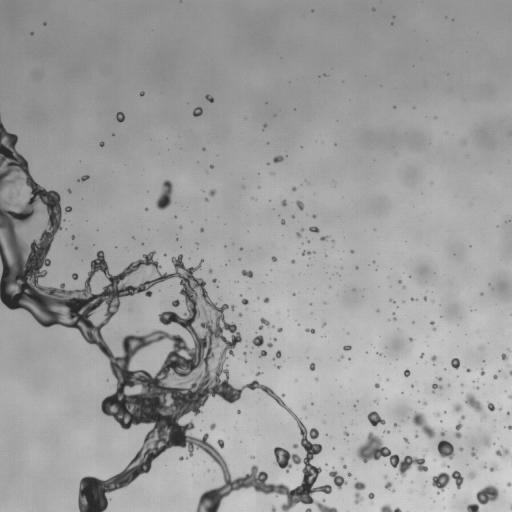droplet: (366, 411, 385, 429), (437, 440, 454, 459), (495, 445, 511, 464), (252, 335, 263, 347), (384, 481, 395, 492), (13, 142, 24, 153), (39, 179, 50, 190), (2, 183, 13, 194), (21, 186, 32, 197), (152, 186, 163, 197), (286, 192, 297, 203), (286, 220, 297, 231), (310, 238, 321, 249), (277, 254, 288, 265), (163, 262, 174, 273), (108, 264, 119, 275), (66, 279, 77, 290), (223, 311, 234, 322), (260, 327, 271, 338), (241, 332, 252, 343), (224, 355, 235, 366), (229, 377, 240, 388), (463, 383, 474, 394), (105, 384, 116, 395), (426, 392, 437, 403), (461, 404, 472, 415), (448, 412, 459, 423), (424, 415, 435, 426), (406, 422, 417, 433), (372, 424, 383, 435), (380, 436, 391, 447), (131, 439, 142, 450), (169, 444, 180, 455), (193, 447, 204, 458), (347, 447, 358, 458), (310, 455, 321, 466), (469, 459, 480, 470), (112, 463, 123, 474), (97, 470, 108, 481), (213, 476, 224, 487), (343, 480, 354, 491), (494, 480, 505, 491), (70, 481, 81, 492), (374, 486, 385, 497), (311, 490, 322, 501), (323, 495, 334, 506), (373, 496, 384, 507), (218, 497, 229, 508), (452, 402, 462, 413), (294, 501, 305, 511), (115, 112, 125, 122), (241, 269, 252, 278), (451, 358, 460, 369), (192, 107, 202, 116), (216, 438, 224, 449), (4, 124, 13, 133), (292, 191, 301, 200), (168, 192, 177, 201), (58, 198, 67, 207), (287, 201, 296, 210), (164, 204, 173, 213), (53, 230, 62, 239), (5, 254, 14, 263), (78, 271, 87, 280), (37, 277, 46, 286), (75, 279, 84, 288), (266, 347, 275, 356), (100, 355, 109, 364), (470, 368, 479, 377), (456, 395, 465, 404), (414, 404, 423, 413), (444, 433, 453, 442), (432, 434, 441, 443), (358, 436, 367, 445), (325, 476, 334, 485), (345, 477, 354, 486), (203, 482, 212, 491), (359, 488, 368, 497), (278, 493, 287, 502), (273, 155, 283, 163), (296, 200, 304, 210), (487, 401, 495, 411), (171, 299, 180, 307), (467, 471, 476, 479), (309, 226, 319, 233), (505, 399, 511, 410), (290, 505, 301, 511), (351, 505, 362, 511), (477, 505, 488, 511), (205, 94, 213, 102), (258, 350, 267, 357), (441, 461, 450, 468), (320, 235, 330, 241), (430, 355, 436, 365), (484, 436, 490, 446), (208, 189, 216, 196), (241, 298, 249, 305), (501, 353, 508, 361), (403, 369, 410, 377), (0, 229, 5, 240), (0, 300, 5, 311), (309, 362, 315, 371), (27, 165, 34, 172), (32, 175, 39, 182), (24, 185, 31, 192), (13, 206, 20, 213), (310, 219, 317, 226), (317, 229, 324, 236), (72, 238, 79, 245), (49, 242, 56, 249), (303, 243, 310, 250), (45, 251, 52, 258), (294, 254, 301, 261), (39, 264, 46, 271), (192, 270, 199, 277), (16, 307, 23, 314), (222, 308, 229, 315), (51, 323, 58, 330), (71, 327, 78, 334), (271, 329, 278, 336), (260, 342, 267, 349), (91, 343, 98, 350), (97, 350, 104, 357), (343, 350, 350, 357), (423, 353, 430, 360), (274, 357, 281, 364), (498, 359, 505, 366), (105, 367, 112, 374), (484, 371, 491, 378), (257, 377, 264, 384), (274, 389, 281, 396), (95, 399, 102, 406), (480, 401, 487, 408), (446, 404, 453, 411), (107, 415, 114, 422), (406, 418, 413, 425), (147, 421, 154, 428), (384, 421, 391, 428), (129, 423, 136, 430), (415, 425, 422, 432), (433, 427, 440, 434), (418, 431, 425, 438), (407, 434, 414, 441), (442, 434, 449, 441), (463, 447, 470, 454), (159, 451, 166, 458), (442, 455, 449, 462), (355, 456, 362, 463), (367, 457, 374, 464), (150, 458, 157, 465), (309, 458, 316, 465), (211, 461, 218, 468), (410, 462, 417, 469), (445, 468, 452, 475), (337, 469, 344, 476), (87, 470, 94, 477), (137, 472, 144, 479), (357, 475, 364, 482), (448, 477, 455, 484), (330, 483, 337, 490), (477, 483, 484, 490), (247, 485, 254, 492), (230, 489, 237, 496), (256, 490, 263, 497), (496, 490, 503, 497), (104, 491, 111, 498), (268, 491, 275, 498), (310, 491, 317, 498), (193, 494, 200, 501), (471, 497, 478, 504), (486, 499, 493, 506), (308, 502, 315, 509), (477, 503, 484, 510), (343, 345, 351, 351), (440, 428, 446, 436), (506, 352, 511, 361), (216, 506, 225, 511), (310, 506, 319, 511), (281, 199, 287, 206), (65, 206, 71, 213), (262, 297, 269, 303), (433, 411, 440, 417), (393, 422, 400, 428), (480, 367, 485, 375), (72, 273, 78, 279), (343, 430, 349, 436), (403, 437, 409, 443), (321, 320, 326, 327), (464, 367, 471, 372), (373, 398, 378, 405), (210, 423, 215, 430), (99, 141, 104, 147), (271, 256, 277, 261), (267, 342, 273, 347), (419, 352, 424, 358), (374, 382, 379, 388), (422, 399, 427, 405), (292, 443, 298, 448), (271, 505, 276, 511), (231, 304, 235, 311), (274, 365, 281, 369), (435, 377, 442, 381), (73, 507, 80, 511), (103, 507, 110, 511), (275, 507, 282, 511), (374, 507, 381, 511), (461, 507, 468, 511), (140, 91, 145, 96), (292, 186, 297, 191), (277, 327, 282, 332), (408, 337, 413, 342), (478, 345, 483, 350), (204, 99, 209, 104), (272, 152, 277, 157), (23, 155, 28, 160), (268, 157, 273, 162), (275, 161, 280, 166), (82, 170, 87, 175), (76, 173, 81, 178), (294, 182, 299, 187), (45, 186, 50, 191), (54, 187, 59, 192), (213, 192, 218, 197), (206, 194, 211, 199), (298, 196, 303, 201), (276, 200, 281, 205), (293, 204, 298, 209), (302, 204, 307, 209), (60, 208, 65, 213), (276, 217, 281, 222), (59, 221, 64, 226), (299, 236, 304, 241), (326, 236, 331, 241), (144, 249, 149, 254), (92, 254, 97, 259), (103, 256, 108, 261), (151, 256, 156, 261), (124, 261, 129, 266), (191, 262, 196, 267), (184, 263, 189, 268), (370, 263, 375, 268), (86, 266, 91, 271), (244, 266, 249, 271), (159, 269, 164, 274), (338, 269, 343, 274), (83, 273, 88, 278), (210, 273, 215, 278), (243, 275, 248, 280), (55, 284, 60, 289), (203, 284, 208, 289), (63, 285, 68, 290), (243, 294, 248, 299), (259, 295, 264, 300), (268, 297, 273, 302), (247, 298, 252, 303), (216, 302, 221, 307), (263, 302, 268, 307), (240, 303, 245, 308), (394, 308, 399, 313), (264, 315, 269, 320), (226, 319, 231, 324), (268, 319, 273, 324), (256, 320, 261, 325), (36, 322, 41, 327), (274, 323, 279, 328), (61, 325, 66, 330), (272, 327, 277, 332), (256, 330, 261, 335), (239, 332, 244, 337), (79, 336, 84, 341), (268, 338, 273, 343), (262, 339, 267, 344), (410, 340, 415, 345), (235, 341, 240, 346), (224, 350, 229, 355), (504, 350, 509, 355), (451, 353, 456, 358), (342, 356, 347, 361), (427, 359, 432, 364), (458, 362, 463, 367), (479, 362, 484, 367), (314, 363, 319, 368), (221, 364, 226, 369), (450, 366, 455, 371), (305, 367, 310, 372), (504, 367, 509, 372), (253, 375, 258, 380), (457, 377, 462, 382), (247, 378, 252, 383), (227, 379, 232, 384), (436, 380, 441, 385), (378, 381, 383, 386), (473, 381, 478, 386), (265, 382, 270, 387), (459, 386, 464, 391), (434, 387, 439, 392), (506, 389, 511, 394), (281, 396, 286, 401), (305, 402, 310, 407), (493, 403, 498, 408), (291, 407, 296, 412), (484, 407, 489, 412), (493, 407, 498, 412), (366, 408, 371, 413), (457, 410, 462, 415), (409, 413, 414, 418), (440, 413, 445, 418), (379, 414, 384, 419), (460, 419, 465, 424), (452, 420, 457, 425), (366, 421, 371, 426), (376, 421, 381, 426), (115, 422, 120, 427), (315, 425, 320, 430), (305, 426, 310, 431), (120, 427, 125, 432), (345, 427, 350, 432), (451, 427, 456, 432), (458, 427, 463, 432), (317, 428, 322, 433), (320, 442, 325, 447), (493, 445, 498, 450), (452, 447, 457, 452), (434, 449, 439, 454), (390, 450, 395, 455), (202, 451, 207, 456), (475, 451, 480, 456), (130, 452, 135, 457), (416, 454, 421, 459), (494, 454, 499, 459), (384, 455, 389, 460), (398, 456, 403, 461), (422, 461, 427, 466), (486, 462, 491, 467), (484, 467, 489, 472), (420, 470, 425, 475), (433, 471, 438, 476), (460, 472, 465, 477), (343, 475, 348, 480), (386, 476, 391, 481), (428, 478, 433, 483), (381, 479, 386, 484), (312, 482, 317, 487), (460, 482, 465, 487), (340, 483, 345, 488), (442, 485, 447, 490), (433, 486, 438, 491), (352, 487, 357, 492), (350, 495, 355, 500), (304, 503, 309, 508), (354, 503, 359, 508), (335, 505, 340, 510), (390, 505, 395, 510), (398, 505, 403, 510), (281, 219, 285, 225), (429, 321, 435, 325), (0, 265, 3, 272), (209, 164, 214, 168), (67, 188, 71, 193), (208, 268, 212, 273), (212, 278, 217, 282), (493, 374, 497, 379), (302, 406, 307, 410), (497, 407, 502, 411), (459, 446, 463, 451), (250, 455, 255, 459), (347, 472, 351, 477), (506, 482, 511, 486), (507, 374, 511, 379), (473, 386, 479, 389), (422, 448, 428, 451), (371, 7, 375, 11), (204, 197, 208, 201), (144, 207, 148, 211), (312, 214, 316, 218), (350, 249, 354, 253), (291, 259, 295, 263), (238, 312, 242, 316), (393, 317, 397, 321), (432, 327, 436, 331), (314, 377, 318, 381), (237, 410, 241, 414), (342, 464, 346, 468), (323, 73, 328, 76), (200, 227, 203, 232), (423, 296, 426, 301), (243, 351, 246, 356), (508, 394, 511, 399), (384, 474, 387, 479), (508, 447, 511, 452), (266, 508, 271, 511), (505, 508, 510, 511), (310, 9, 314, 12), (43, 21, 46, 25), (433, 116, 437, 119), (202, 147, 205, 151), (266, 162, 270, 165), (291, 214, 294, 218), (179, 225, 182, 229), (71, 235, 74, 239), (195, 242, 199, 245), (74, 246, 78, 249), (239, 247, 243, 250), (323, 301, 327, 304), (507, 348, 511, 351), (244, 359, 247, 363), (294, 378, 297, 382), (447, 383, 450, 387), (332, 446, 335, 450), (432, 458, 436, 461), (452, 494, 455, 498), (390, 22, 393, 25), (30, 32, 33, 35), (393, 105, 396, 108), (242, 185, 245, 188), (174, 215, 177, 218), (132, 236, 135, 239), (331, 239, 334, 242), (307, 240, 310, 243), (163, 253, 166, 256), (324, 254, 327, 257), (238, 257, 241, 260), (372, 260, 375, 263), (355, 266, 358, 269), (398, 280, 401, 283), (215, 284, 218, 287), (328, 285, 331, 288), (402, 285, 405, 288), (352, 288, 355, 291), (292, 292, 295, 295), (480, 292, 483, 295), (218, 297, 221, 300), (402, 300, 405, 303), (309, 302, 312, 305), (376, 309, 379, 312), (387, 318, 390, 321), (297, 323, 300, 326), (306, 356, 309, 359), (348, 357, 351, 360), (386, 378, 389, 381), (460, 383, 463, 386), (410, 384, 413, 387), (417, 400, 420, 403), (310, 402, 313, 405), (353, 404, 356, 407), (443, 410, 446, 413), (410, 480, 413, 483), (392, 12, 395, 15), (390, 18, 393, 21), (41, 19, 44, 22), (387, 21, 390, 24), (40, 23, 43, 26), (45, 23, 48, 26), (29, 28, 32, 31), (27, 32, 30, 35), (32, 33, 35, 36), (325, 71, 328, 74), (320, 74, 323, 77), (136, 92, 139, 95), (203, 92, 206, 95), (140, 95, 143, 98), (213, 98, 216, 101), (392, 102, 395, 105), (264, 103, 267, 106), (194, 104, 197, 107), (197, 104, 200, 107), (201, 107, 204, 110), (295, 107, 298, 110), (118, 108, 121, 111), (189, 111, 192, 114), (113, 112, 116, 115), (123, 112, 126, 115), (195, 115, 198, 118), (113, 117, 116, 120), (123, 117, 126, 120), (119, 121, 122, 124), (260, 125, 263, 128), (263, 127, 266, 130), (108, 132, 111, 135), (114, 132, 117, 135), (111, 135, 114, 138), (300, 142, 303, 145), (103, 143, 106, 146), (202, 144, 205, 147), (97, 145, 100, 148), (199, 149, 202, 152), (204, 149, 207, 152), (287, 154, 290, 157), (282, 155, 285, 158), (210, 161, 213, 164), (206, 164, 209, 167), (266, 164, 269, 167), (208, 167, 211, 170), (86, 172, 89, 175), (73, 178, 76, 181), (85, 178, 88, 181), (79, 179, 82, 182), (291, 183, 294, 186), (288, 186, 291, 189), (70, 188, 73, 191), (295, 188, 298, 191), (291, 190, 294, 193), (267, 196, 270, 199), (201, 197, 204, 200), (280, 197, 283, 200), (251, 199, 254, 202), (203, 200, 206, 203), (285, 200, 288, 203), (283, 205, 286, 208), (141, 206, 144, 209), (71, 207, 74, 210), (143, 210, 146, 213), (313, 211, 316, 214), (176, 215, 179, 218), (309, 215, 312, 218), (315, 215, 318, 218), (171, 216, 174, 219), (505, 218, 508, 221), (284, 220, 287, 223), (281, 224, 284, 227), (316, 225, 319, 228), (197, 228, 200, 231), (203, 228, 206, 231), (200, 231, 203, 234), (312, 231, 315, 234), (293, 233, 296, 236), (74, 234, 77, 237), (134, 235, 137, 238), (68, 236, 71, 239), (172, 237, 175, 240), (130, 238, 133, 241), (177, 238, 180, 241), (71, 239, 74, 242), (140, 239, 143, 242), (196, 239, 199, 242), (322, 239, 325, 242), (303, 240, 306, 243), (223, 241, 226, 244), (468, 241, 471, 244), (114, 242, 117, 245), (71, 244, 74, 247), (194, 244, 197, 247), (220, 244, 223, 247), (238, 244, 241, 247), (471, 244, 474, 247), (77, 246, 80, 249), (350, 246, 353, 249), (114, 247, 117, 250), (223, 247, 226, 250), (236, 247, 239, 250), (72, 248, 75, 251), (96, 248, 99, 251), (150, 248, 153, 251), (240, 249, 243, 252), (299, 249, 302, 252), (315, 250, 318, 253), (347, 250, 350, 253), (325, 251, 328, 254), (310, 252, 313, 255), (274, 254, 277, 257), (202, 256, 205, 259), (268, 256, 271, 259), (290, 256, 293, 259), (373, 257, 376, 260), (197, 258, 200, 261), (294, 259, 297, 262), (225, 260, 228, 263), (274, 260, 277, 263), (369, 261, 372, 264), (374, 261, 377, 264), (49, 262, 52, 265), (200, 262, 203, 265), (221, 262, 224, 265), (291, 263, 294, 266), (357, 264, 360, 267), (352, 266, 355, 269), (376, 266, 379, 269), (357, 267, 360, 270), (74, 270, 77, 273), (407, 272, 410, 275), (45, 273, 48, 276), (252, 273, 255, 276), (335, 274, 338, 277), (397, 276, 400, 279), (407, 277, 410, 280), (215, 279, 218, 282), (60, 280, 63, 283), (400, 282, 403, 285), (479, 289, 482, 292), (239, 290, 242, 293), (289, 291, 292, 294), (295, 292, 298, 295), (423, 292, 426, 295), (476, 292, 479, 295), (483, 292, 486, 295), (292, 295, 295, 298), (412, 295, 415, 298), (479, 295, 482, 298), (239, 296, 242, 299), (392, 297, 395, 300), (420, 297, 423, 300), (426, 297, 429, 300), (385, 298, 388, 301), (407, 298, 410, 301), (308, 299, 311, 302), (412, 299, 415, 302), (223, 300, 226, 303), (389, 301, 392, 304), (311, 302, 314, 305), (394, 302, 397, 305), (245, 303, 248, 306), (322, 303, 325, 306), (307, 304, 310, 307), (228, 306, 231, 309), (233, 306, 236, 309), (470, 306, 473, 309), (389, 310, 392, 313), (439, 312, 442, 315), (392, 314, 395, 317), (409, 318, 412, 321), (428, 318, 431, 321), (295, 320, 298, 323), (319, 321, 322, 324), (413, 322, 416, 325), (235, 323, 238, 326), (268, 323, 271, 326), (432, 323, 435, 326), (311, 325, 314, 328), (323, 325, 326, 328), (281, 328, 284, 331), (314, 329, 317, 332), (307, 330, 310, 333), (431, 330, 434, 333), (254, 333, 257, 336), (411, 335, 414, 338), (322, 336, 325, 339), (406, 338, 409, 341), (345, 342, 348, 345), (253, 344, 256, 347), (340, 344, 343, 347), (350, 346, 353, 349), (363, 348, 366, 351), (367, 350, 370, 353), (246, 351, 249, 354), (280, 351, 283, 354), (372, 351, 375, 354), (418, 352, 421, 355), (364, 353, 367, 356), (375, 353, 378, 356), (241, 354, 244, 357), (337, 354, 340, 357), (380, 354, 383, 357), (422, 354, 425, 357), (261, 355, 264, 358), (498, 355, 501, 358), (274, 356, 277, 359), (482, 356, 485, 359), (350, 357, 353, 360), (418, 357, 421, 360), (246, 358, 249, 361), (241, 360, 244, 363), (433, 360, 436, 363), (484, 360, 487, 363), (306, 364, 309, 367), (273, 365, 276, 368), (431, 365, 434, 368), (466, 365, 469, 368), (279, 366, 282, 369), (497, 366, 500, 369), (402, 367, 405, 370), (258, 368, 261, 371), (275, 368, 278, 371), (408, 368, 411, 371), (482, 368, 485, 371), (312, 369, 315, 372), (478, 369, 481, 372), (400, 371, 403, 374), (466, 371, 469, 374), (495, 372, 498, 375), (483, 373, 486, 376), (436, 374, 439, 377), (407, 375, 410, 378), (490, 375, 493, 378), (473, 377, 476, 380), (388, 378, 391, 381), (493, 378, 496, 381), (312, 379, 315, 382), (376, 380, 379, 383), (461, 380, 464, 383), (412, 382, 415, 385), (429, 382, 432, 385), (371, 383, 374, 386), (407, 384, 410, 387), (375, 387, 378, 390), (430, 387, 433, 390), (478, 387, 481, 390), (400, 388, 403, 391), (430, 392, 433, 395), (400, 393, 403, 396), (372, 396, 375, 399), (415, 397, 418, 400), (311, 399, 314, 402), (358, 399, 361, 402), (426, 400, 429, 403), (354, 401, 357, 404), (419, 401, 422, 404), (311, 404, 314, 407), (351, 406, 354, 409), (354, 406, 357, 409), (443, 407, 446, 410), (371, 408, 374, 411), (440, 410, 443, 413), (446, 410, 449, 413), (503, 411, 506, 414), (296, 414, 299, 417), (300, 419, 303, 422), (396, 421, 399, 424), (500, 424, 503, 427), (395, 425, 398, 428), (389, 429, 392, 432), (384, 431, 387, 434), (327, 432, 330, 435), (348, 432, 351, 435), (343, 434, 346, 437), (405, 435, 408, 438), (415, 437, 418, 440), (401, 439, 404, 442), (489, 441, 492, 444), (473, 445, 476, 448), (334, 446, 337, 449), (182, 455, 185, 458), (471, 455, 474, 458), (179, 459, 182, 462), (342, 461, 345, 464), (389, 464, 392, 467), (456, 468, 459, 471), (491, 470, 494, 473), (350, 471, 353, 474), (389, 486, 392, 489), (384, 488, 387, 491), (457, 488, 460, 491), (392, 491, 395, 494), (371, 497, 374, 500), (357, 501, 360, 504), (507, 504, 510, 507), (106, 378, 108, 382), (325, 462, 327, 466), (392, 16, 395, 18), (334, 143, 336, 146), (141, 242, 143, 245), (257, 296, 259, 299), (392, 312, 395, 314), (346, 332, 349, 334), (482, 360, 485, 362), (305, 416, 307, 419), (407, 416, 409, 419), (323, 420, 325, 423), (440, 420, 442, 423), (325, 433, 327, 436), (493, 442, 495, 445), (207, 469, 209, 472), (400, 479, 402, 482), (509, 217, 511, 220), (509, 220, 511, 223), (509, 347, 511, 350), (509, 411, 511, 414), (509, 422, 511, 425), (509, 428, 511, 431), (509, 480, 511, 483), (509, 485, 511, 488), (413, 106, 415, 108), (112, 133, 114, 135), (267, 142, 269, 144), (300, 146, 302, 148), (258, 186, 260, 188), (496, 225, 498, 227), (96, 229, 98, 231), (373, 228, 375, 230), (176, 238, 178, 240), (301, 242, 303, 244), (224, 245, 226, 247), (469, 245, 471, 247), (188, 257, 190, 259), (308, 257, 310, 259), (225, 263, 227, 265), (488, 283, 490, 285), (158, 289, 160, 291), (240, 294, 242, 296), (245, 307, 247, 309), (396, 306, 398, 308), (310, 312, 312, 314), (412, 321, 414, 323), (255, 331, 257, 333), (245, 345, 247, 347), (444, 368, 446, 370), (456, 375, 458, 377), (401, 392, 403, 394), (461, 392, 463, 394), (385, 397, 387, 399), (356, 400, 358, 402), (344, 426, 346, 428), (296, 468, 298, 470), (354, 477, 356, 479), (433, 500, 435, 502), (294, 108, 295, 110), (65, 228, 67, 229), (148, 228, 149, 230), (115, 246, 116, 248), (307, 264, 308, 266), (375, 269, 377, 270), (266, 273, 267, 275), (409, 276, 411, 277), (439, 304, 441, 305), (440, 316, 442, 317), (366, 351, 367, 353), (258, 366, 259, 368), (269, 200, 270, 201), (510, 314, 511, 315), (252, 347, 253, 348), (384, 356, 385, 357), (418, 390, 419, 391), (505, 390, 506, 391), (200, 430, 201, 431)
ligament: (356, 431, 428, 477), (466, 484, 497, 511), (411, 411, 435, 439), (464, 392, 487, 421), (155, 179, 173, 210), (329, 466, 347, 489), (453, 414, 465, 438), (354, 480, 365, 504), (380, 503, 402, 511), (481, 461, 497, 471), (470, 447, 478, 459), (272, 350, 281, 360), (77, 175, 89, 182), (301, 249, 315, 255), (296, 228, 304, 238), (368, 492, 374, 504), (422, 480, 427, 492), (305, 328, 315, 333), (262, 123, 267, 131), (255, 371, 263, 376), (338, 355, 344, 361), (472, 378, 479, 383), (410, 297, 418, 301), (269, 337, 277, 341), (414, 430, 418, 438), (389, 298, 395, 303), (504, 425, 511, 429), (383, 429, 390, 433), (376, 352, 382, 356), (506, 411, 510, 417), (305, 508, 312, 511), (251, 197, 257, 200), (340, 457, 343, 463), (321, 334, 326, 337), (505, 220, 509, 223), (234, 280, 239, 282), (383, 462, 386, 465), (510, 503, 511, 510), (179, 0, 182, 1), (400, 420, 403, 421), (270, 269, 271, 271)
